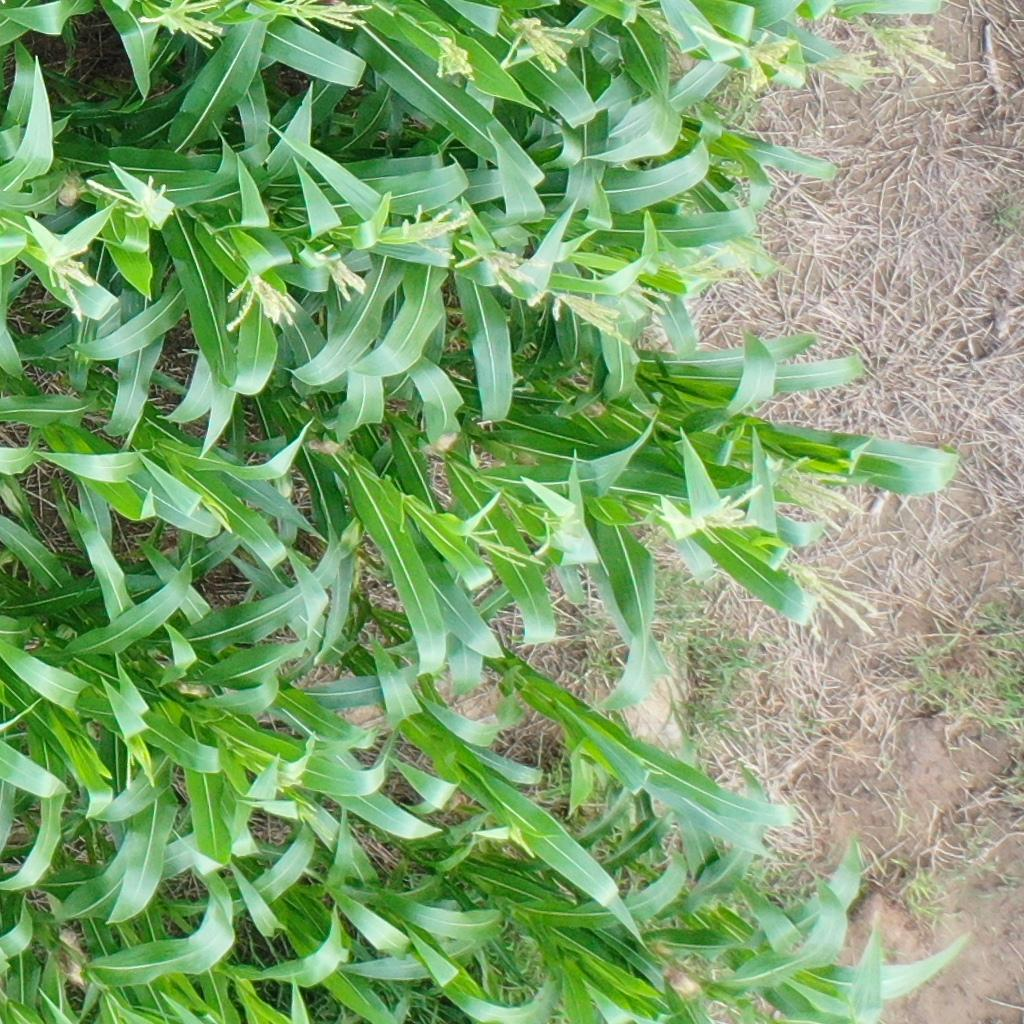Tassel: (767, 440, 869, 538), (776, 551, 887, 639), (681, 18, 804, 93), (658, 474, 766, 545), (499, 7, 593, 79), (450, 234, 546, 299), (867, 15, 960, 82), (543, 280, 635, 347), (85, 162, 175, 227), (461, 507, 546, 571), (219, 269, 301, 335), (40, 242, 101, 324), (396, 200, 470, 265), (725, 222, 799, 287), (137, 1, 232, 51), (805, 44, 885, 97), (313, 238, 371, 299), (531, 507, 593, 562), (621, 260, 678, 318), (678, 239, 744, 289), (425, 26, 477, 82), (276, 1, 372, 31), (625, 1, 675, 36), (510, 828, 535, 857)
